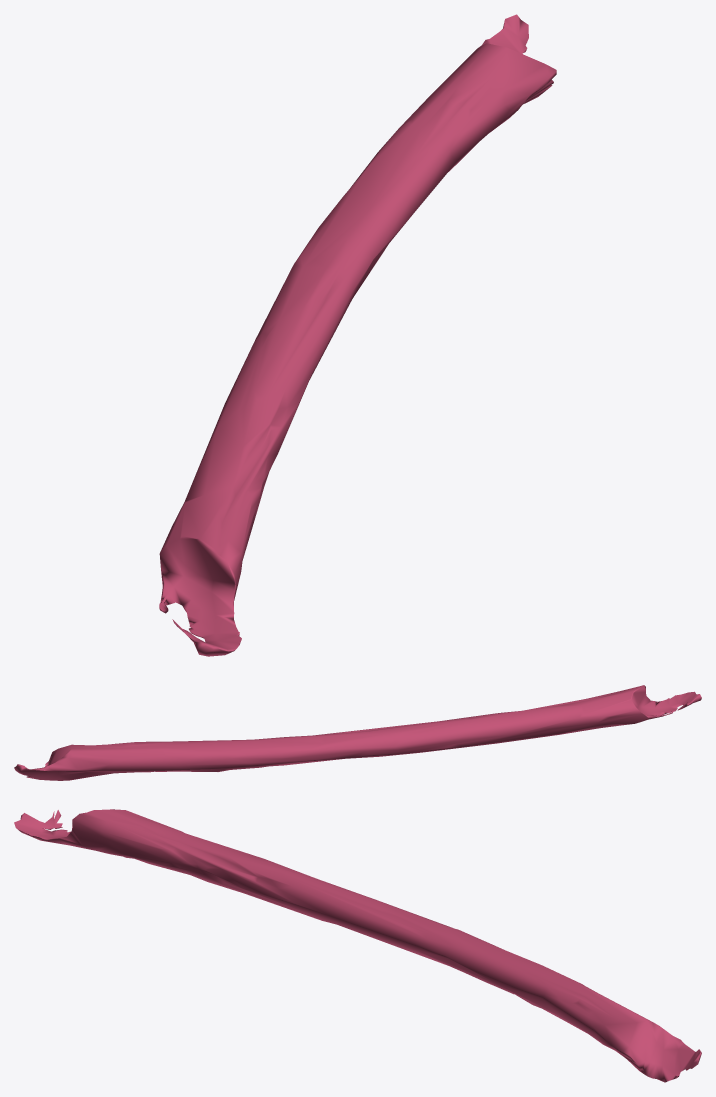
The picture shows the model from 3 angles, top to bottom: view 1: azimuth 30°, elevation 25°; view 2: azimuth 150°, elevation 25°; view 3: azimuth 270°, elevation 25°; orthographic projection. The views are drawn at different scales.
Visible parts, largest first — view 1: 右侧腹股沟韧带; view 2: 右侧腹股沟韧带; view 3: 右侧腹股沟韧带.
Part boxes in pixels (box(x1,y1,x2,y2)): 右侧腹股沟韧带: box(159, 14, 556, 656); 右侧腹股沟韧带: box(14, 685, 701, 780); 右侧腹股沟韧带: box(14, 809, 701, 1082).
Bounding box in the file's own units: 0.154 × 0.0137 × 0.1668.
